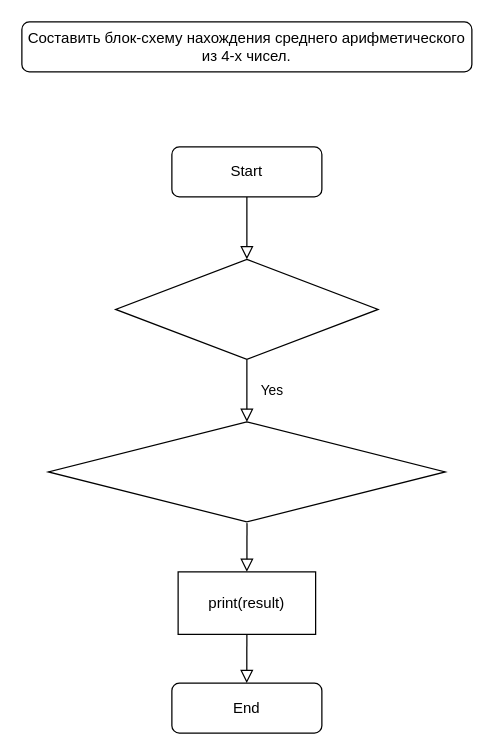
Some shapes in this 494 by 755 pixel diagram are drawn without their labels. The box of each missing label's shape, as (x1, y1, x2, y2) in pixels:
Enter num1, num2, num3, num4: (114, 258, 378, 359)
result = (num1 + num2 + num3 + num4)/4: (47, 421, 445, 522)
